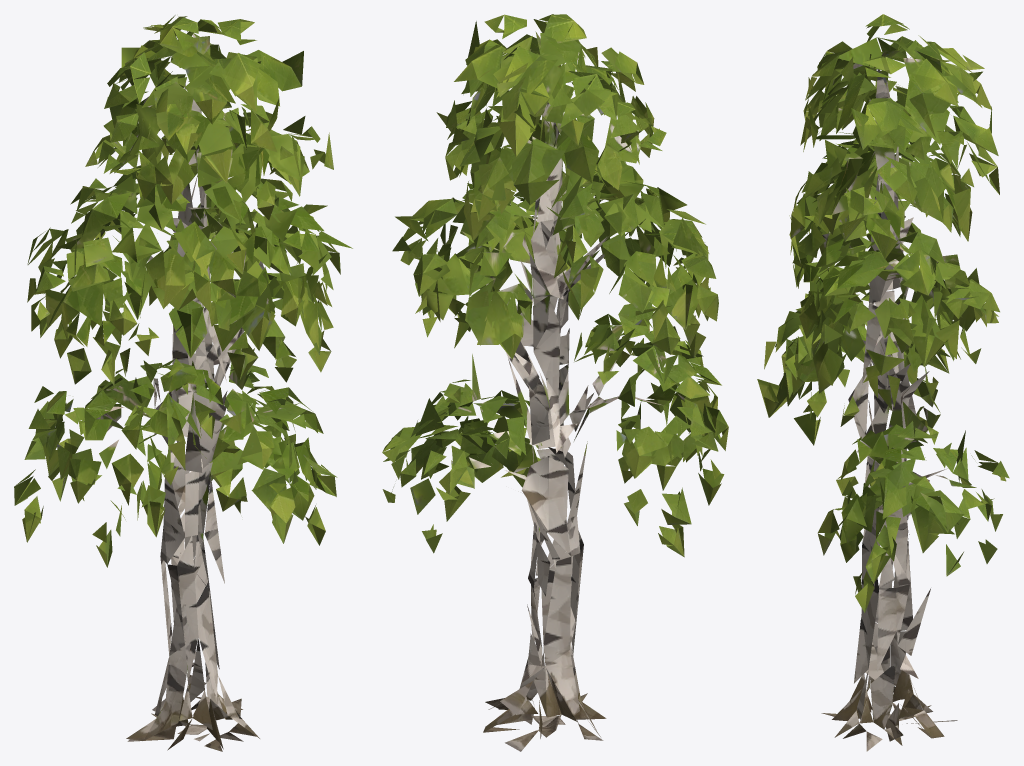
Rendered from tree_birch_lod2.glb.
3 views of the same model, side by side, from view 1: azimuth 30°, elevation 25°; view 2: azimuth 150°, elevation 25°; view 3: azimuth 270°, elevation 25° (orthographic). The views are drawn at different scales.
Visible parts, largest first — view 1: LOD2; view 2: LOD2; view 3: LOD2.
Part boxes in pixels (x1,y1,x2,y2): LOD2: (14,15,352,751); LOD2: (382,14,728,751); LOD2: (757,14,1009,751).
Bounding box in the file's own units: 0.8821 × 1.94 × 0.626.
1 material, 1 textured.
